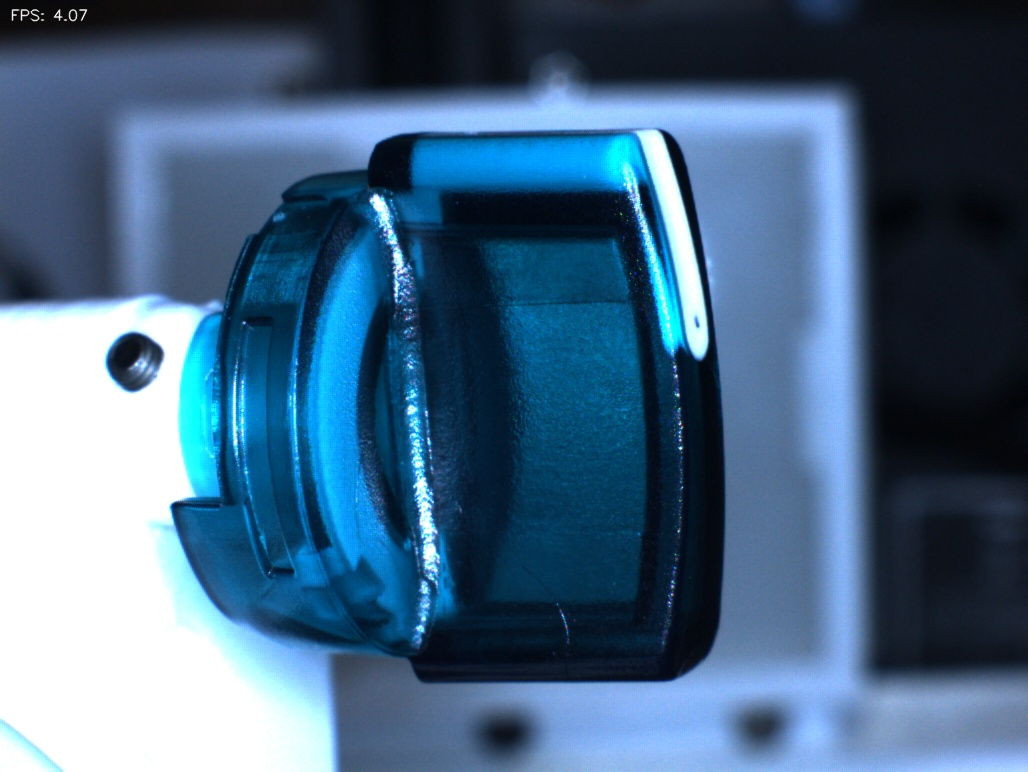PointNoir: (677, 290, 732, 353)
